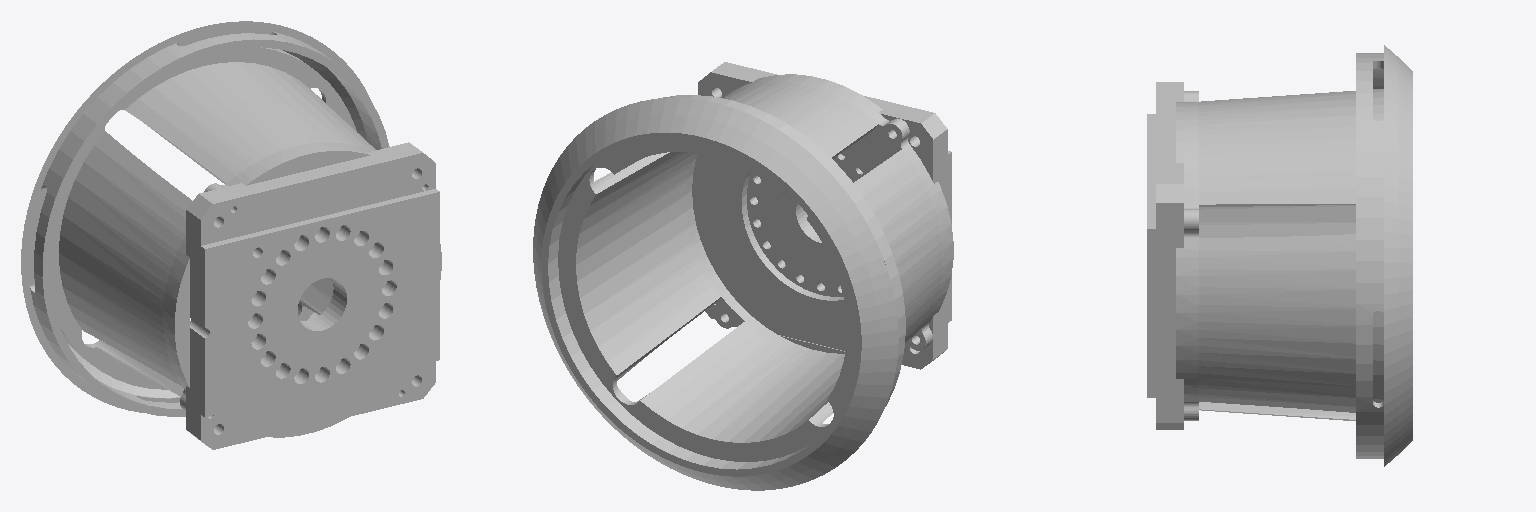
The model's file is leg_link4.obj.
3 views of the same model, side by side, from view 1: azimuth 30°, elevation 25°; view 2: azimuth 150°, elevation 25°; view 3: azimuth 270°, elevation 25° (orthographic).
Parts seen in each view (by area): view 1: leg_link4_material1; view 2: leg_link4_material1; view 3: leg_link4_material1.
Boxes of the visible parts, <box> form: leg_link4_material1: <box>21,21,441,449</box>; leg_link4_material1: <box>533,62,953,490</box>; leg_link4_material1: <box>1147,45,1412,466</box>.
Size of the model in its own units: 0.1477 by 0.1477 by 0.093.